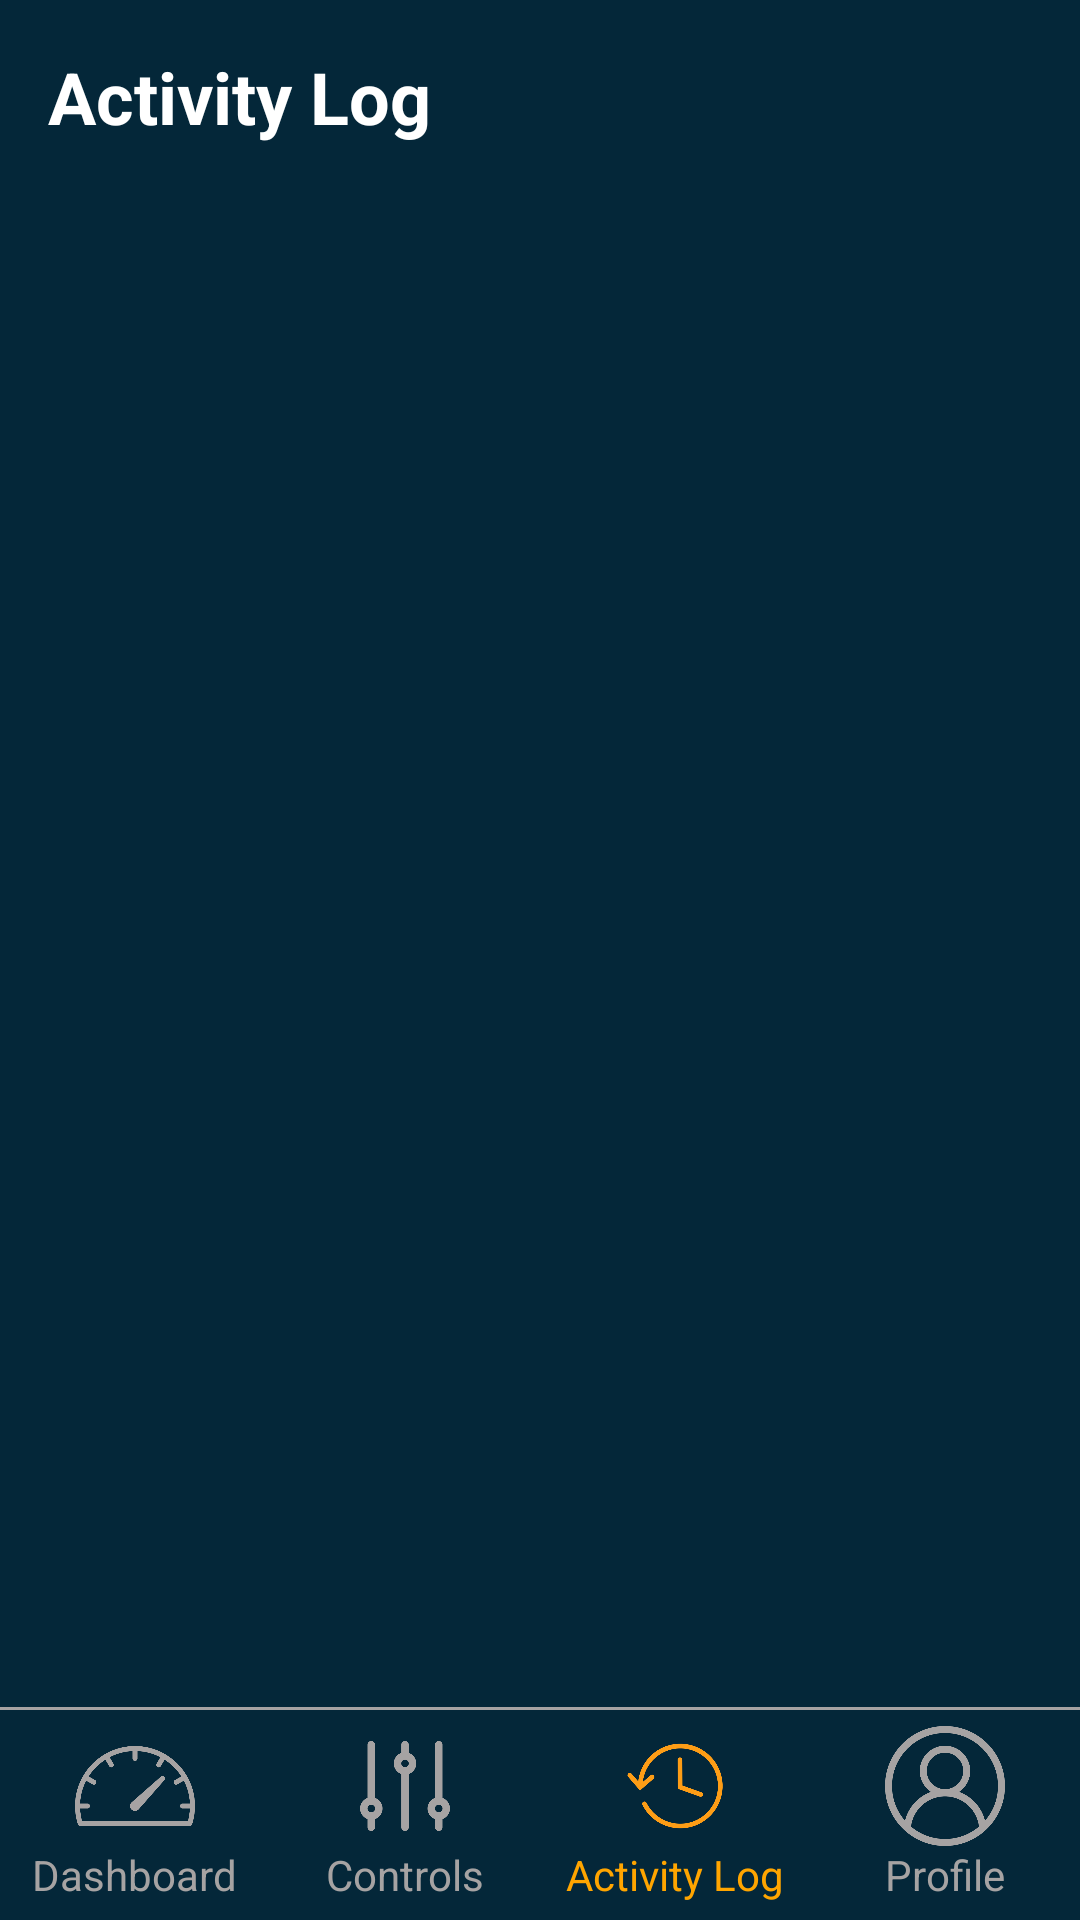

Screen size 1080x1920. Icon name, then its center in pixels as [x,y]:
preference: [405,1786]
user: [945,1786]
